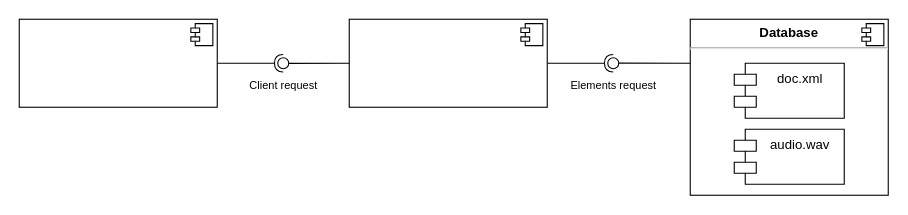
Image size: 908x215. Some labels were removed from this diagram. The shapes that lost their labels are listed below. From the top down, each one's box as (x1, y1, x2, y2) in pixels, then its label:
(18, 18, 217, 107): Client
(348, 18, 547, 107): Server
